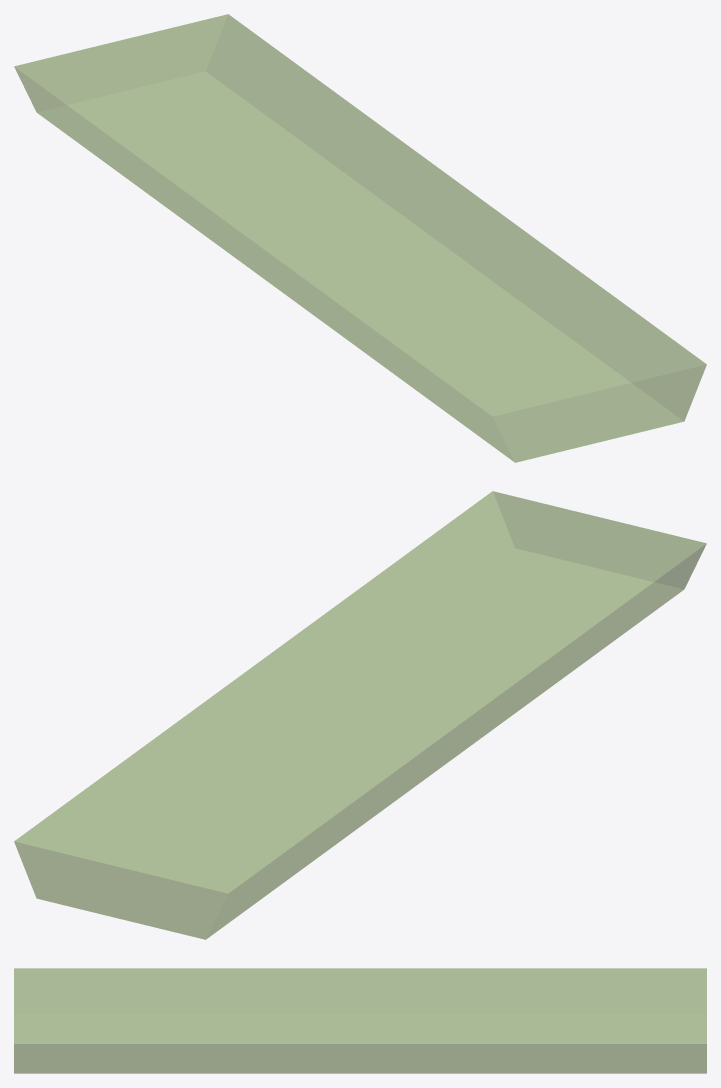
File: bar_counter_COL.fbx
The picture shows the model from 3 angles, top to bottom: view 1: azimuth 30°, elevation 25°; view 2: azimuth 150°, elevation 25°; view 3: azimuth 270°, elevation 25°; orthographic projection. The views are drawn at different scales.
Parts seen in each view (by area): view 1: bar_counter_COL; view 2: bar_counter_COL; view 3: bar_counter_COL.
Boxes of the visible parts, x1,y1,x2,y2 form: bar_counter_COL: (14, 14, 706, 462); bar_counter_COL: (14, 491, 706, 939); bar_counter_COL: (14, 968, 706, 1073).
Size of the model in its own units: 103 by 23.81 by 400.
